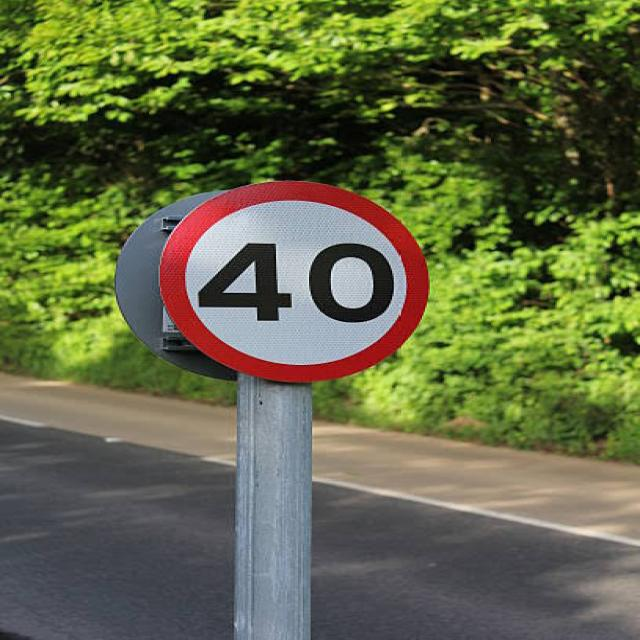speed limit 40: (158, 180, 439, 385)
